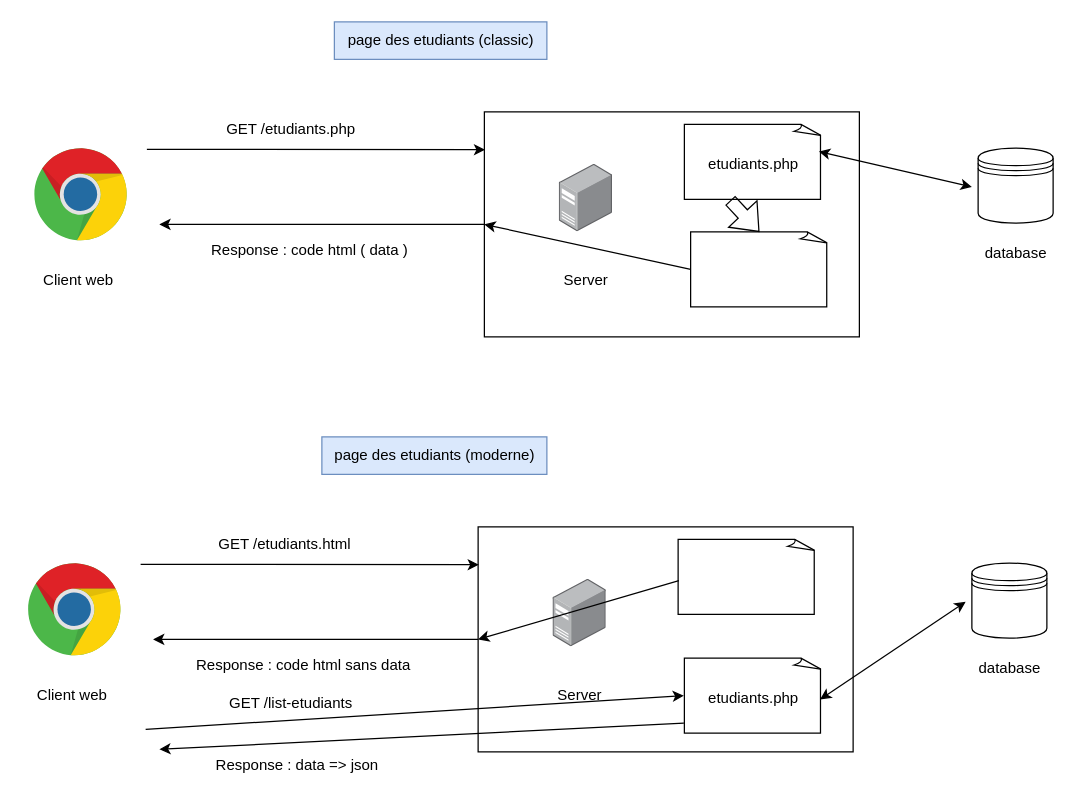
Some shapes in this 1081 by 806 pixel diagram are drawn without their labels. Each missing label, with the centre of its shape:
code html: the point at 758,269
etudiants.html: the point at 746,576
